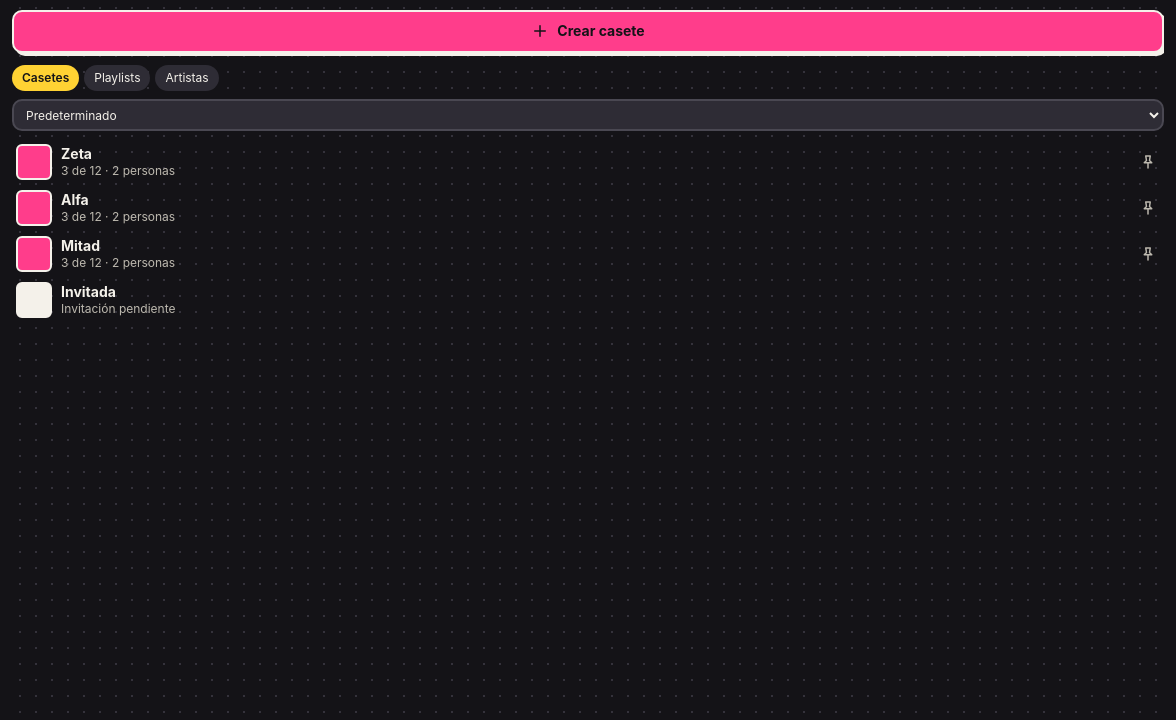
las playlists también se fijan y se ordenan
Click the button "Playlists".
click(117, 78)  # box [84,65,150,91]
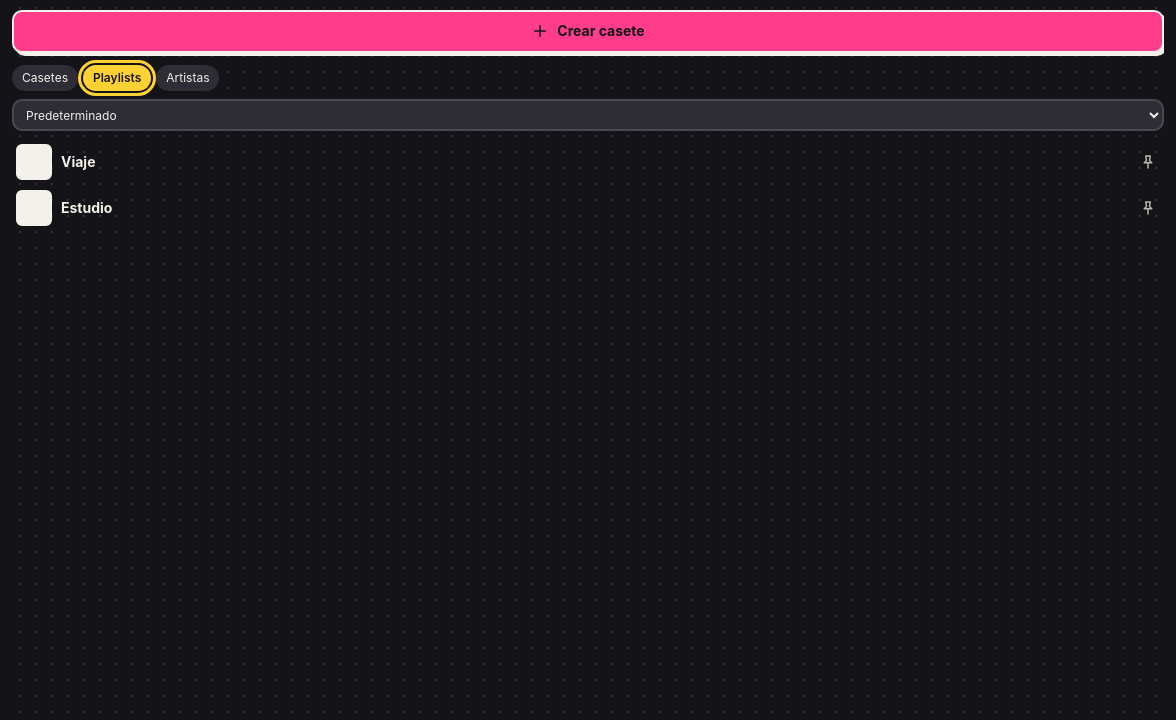
Expected: the text "Viaje" is shown, [61,153,96,170]
Click the button named "Fijar Estudio".
click(1148, 208)  # box [1132,192,1164,224]
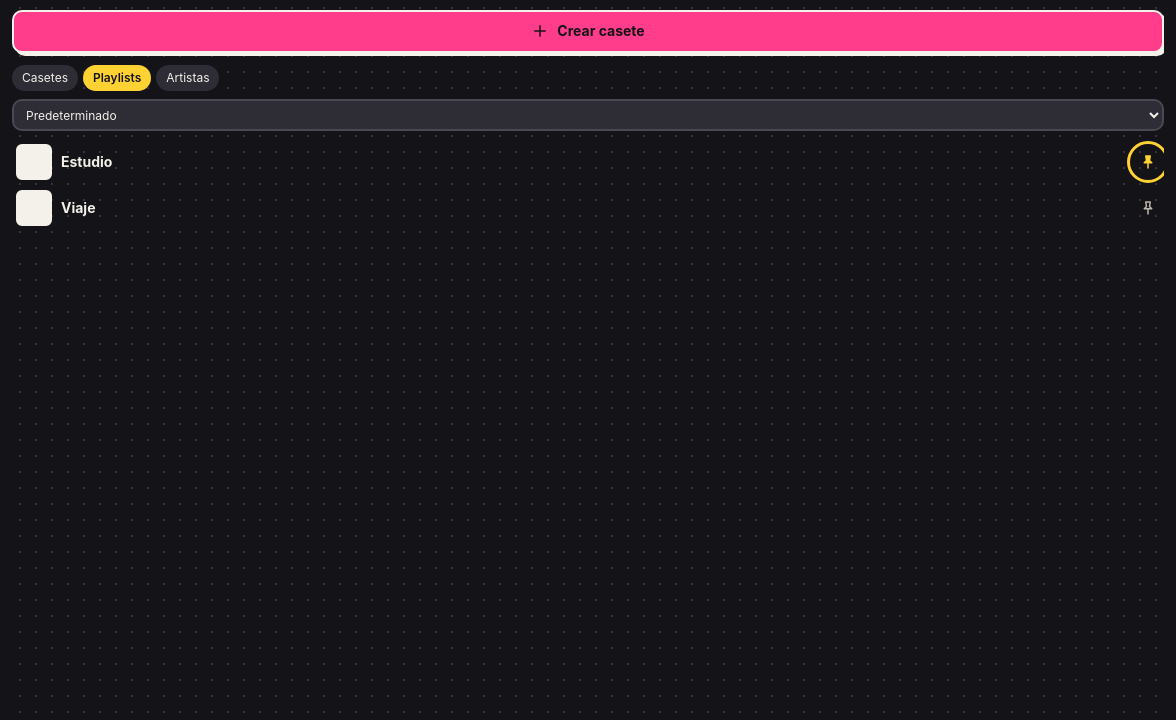
Expected: the links read "Estudio", "Viaje", in this order, [16,144,112,180]; [16,190,96,226]
